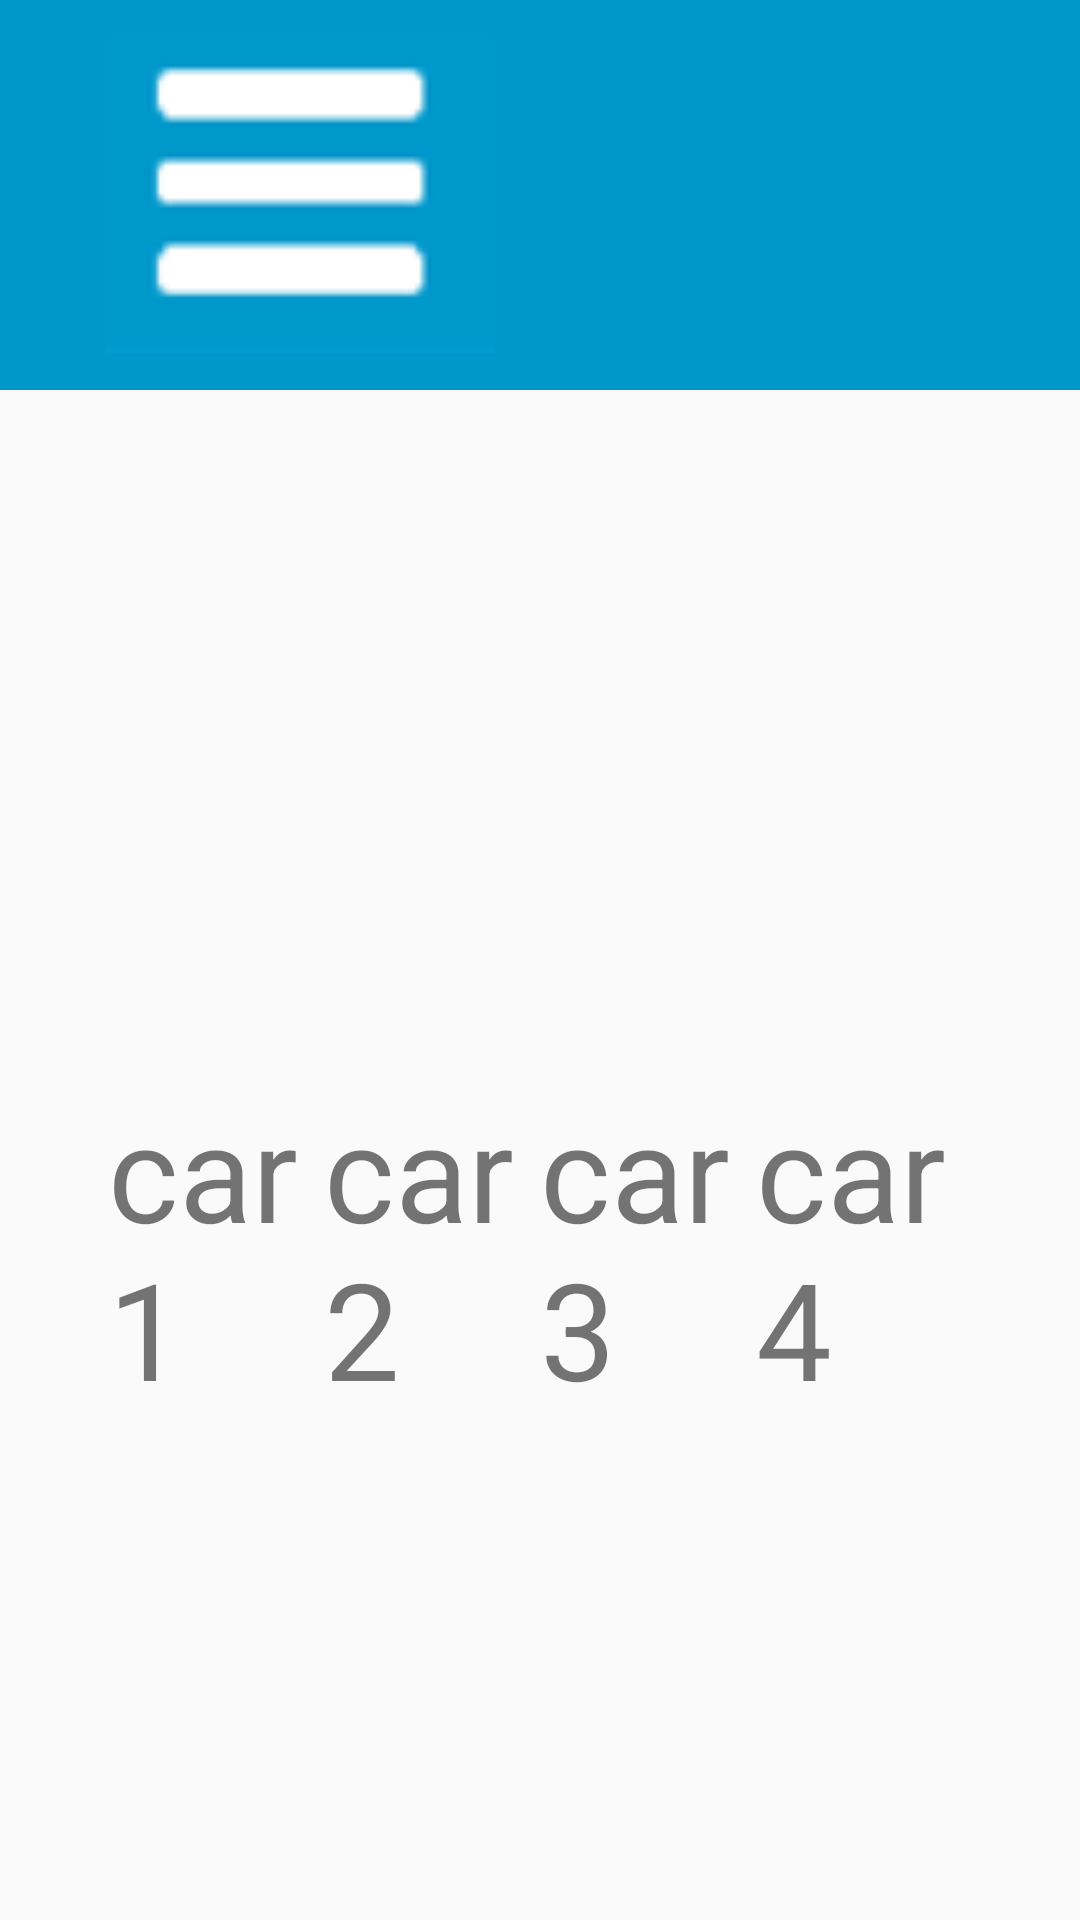

Named icons in this screenshot (1080w x 1920h) and their bounding boxes, BBox(x1, y1, x2, y2):
caidan: BBox(154, 67, 428, 297)
